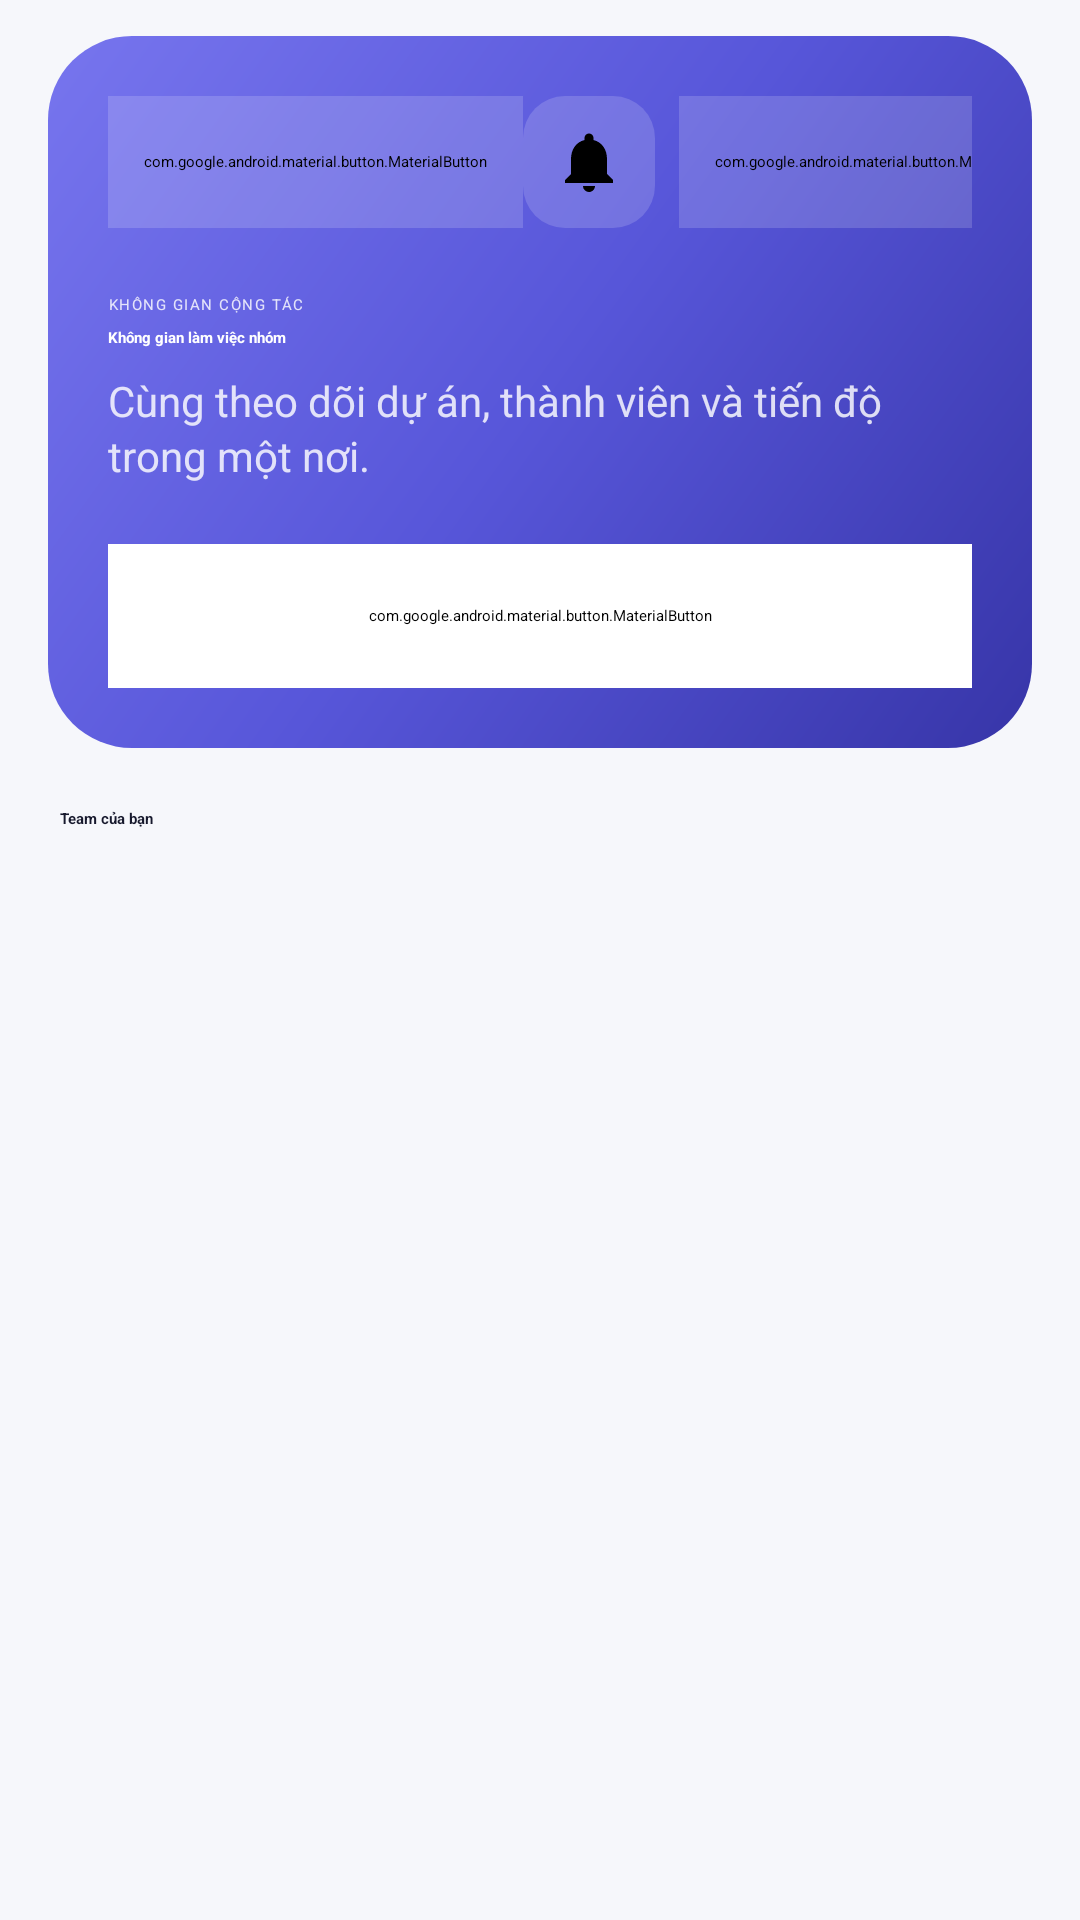

Named icons in this screenshot (1080x1920) and their bounding boxes, [x1, y1, x2, y2]:
Thông báo: [523, 96, 655, 228]
